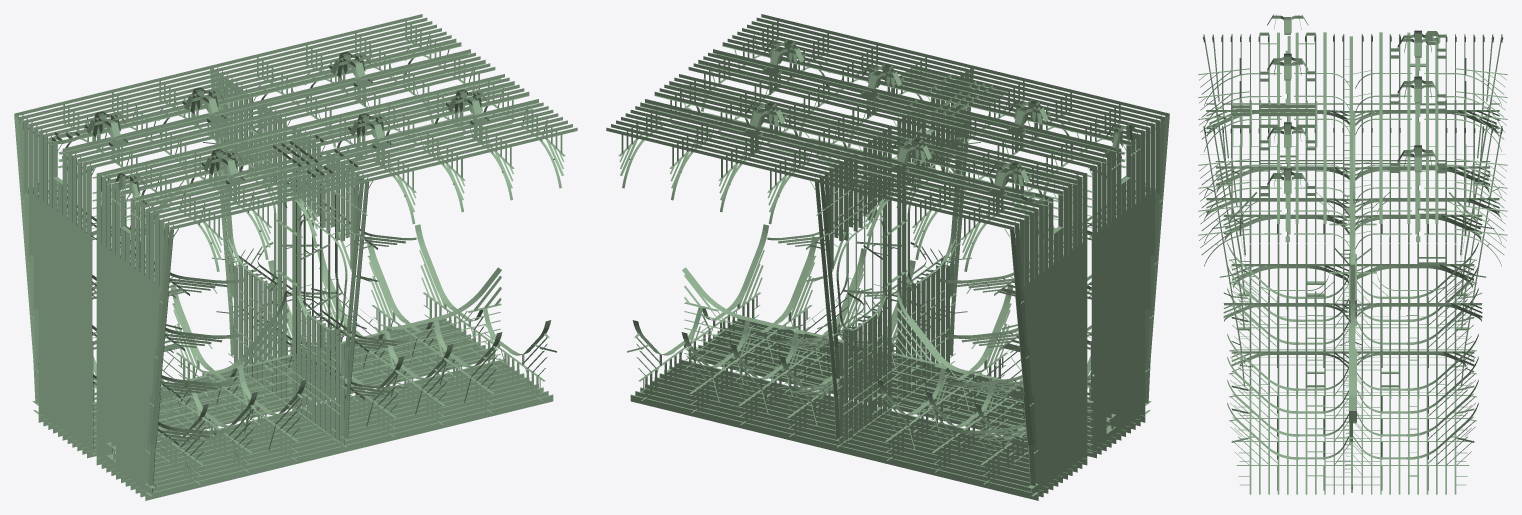
The model's file is NO_2_CENTRAL_CARGO_OIL_TK.glb.
3 renders of one model, left to right at view 1: azimuth 30°, elevation 25°; view 2: azimuth 150°, elevation 25°; view 3: azimuth 270°, elevation 25°, orthographic. The views are drawn at different scales.
Size of the model in its own units: 43.89 by 31.5 by 29.9.
